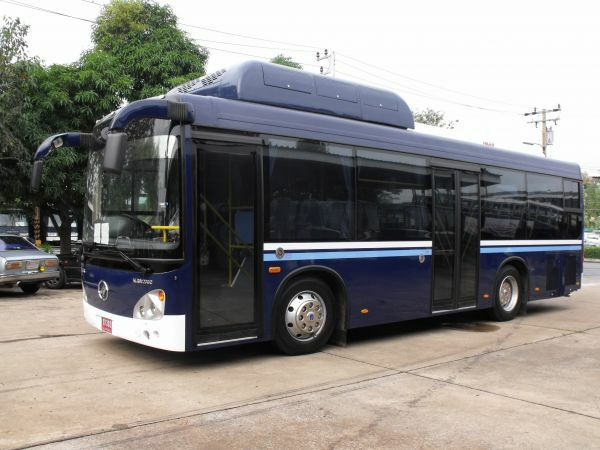bus: (79, 61, 586, 360)
